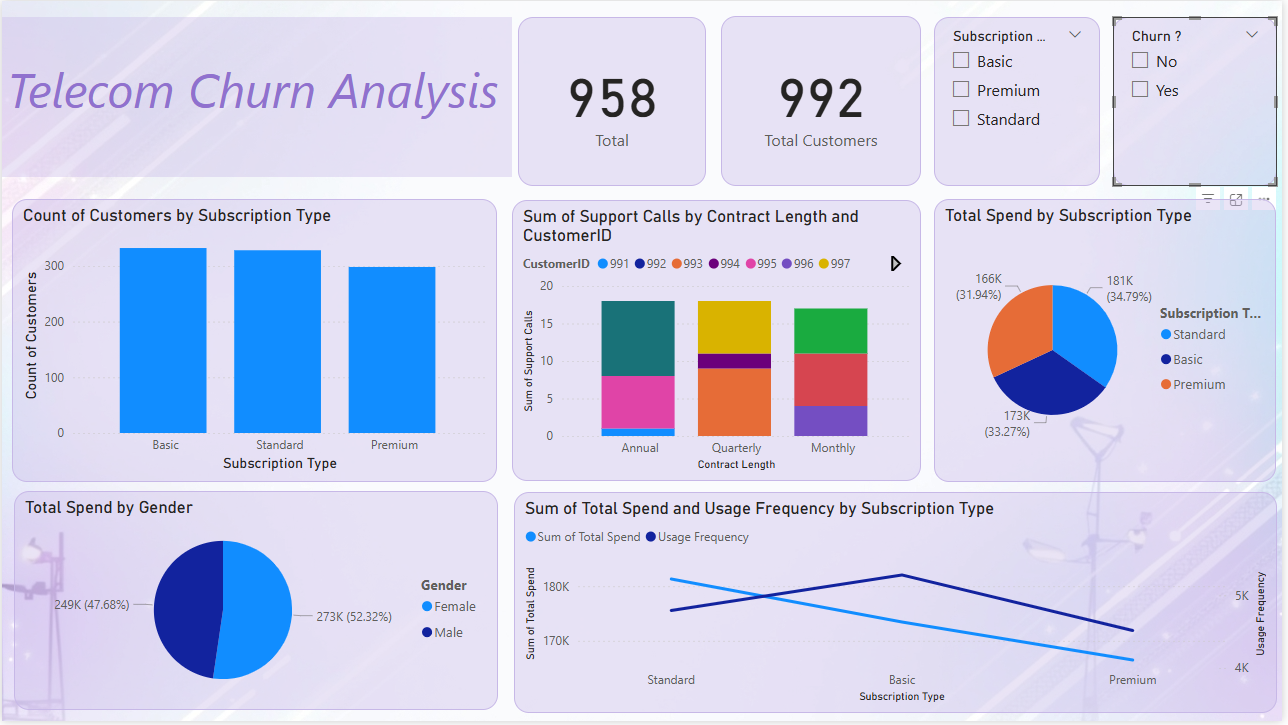

The page's visual inventory and layout, read from the dashboard file:
{"tool":"powerbi","page":{"name":"Page 1","canvas":[1280,720],"ordinal":0},"visuals":[{"type":"textbox","box":[0,15.8,510,160.5],"z":0},{"type":"card","fields":{"Values":["CountNonNull(Sheet1.CustomerID)"]},"box":[515.9,15.8,188.1,169.4],"z":1000},{"type":"slicer","fields":{"Values":["Sheet1.Subscription Type"]},"box":[932.4,15.8,165.4,169.4],"z":2000},{"type":"slicer","fields":{"Values":["Sheet1.Churn_Text"]},"box":[1110.6,15.8,164.4,169.4],"z":3000},{"type":"columnChart","fields":{"Category":["Sheet1.Subscription Type"],"Y":["CountNonNull(Sheet1.CustomerID)"]},"box":[9.6,198.5,485.2,282.8],"z":4000},{"type":"columnChart","fields":{"Category":["Sheet1.Contract Length"],"Y":["Sum(Sheet1.Support Calls)"],"Series":["Sheet1.CustomerID"]},"box":[512.4,199,408.8,281.1],"z":5000},{"type":"pieChart","fields":{"Category":["Sheet1.Subscription Type"],"Y":["Sum(Sheet1.Total Spend)"]},"box":[932,198.5,342.3,282.8],"z":6000},{"type":"pieChart","fields":{"Category":["Sheet1.Gender"],"Y":["Sum(Sheet1.Total Spend)"]},"box":[12.5,489.9,483.2,218.6],"z":7000},{"type":"lineChart","fields":{"Category":["Sheet1.Subscription Type"],"Y":["Sum(Sheet1.Total Spend)"],"Y2":["Sum(Sheet1.Usage Frequency)"]},"box":[512,491.3,763.1,220.6],"z":8000},{"type":"card","fields":{"Values":["CountNonNull(Sheet1.CustomerID)"]},"box":[719.1,15.3,199.4,169.7],"z":9000}]}

Visuals, with their boxes on the page's 1280x720 design canvas (x1, y1, x2, y2). These are canvas units, not pixel positions in the 1288x725 screenshot, which may show the page scaled, cropped or inside an application window:
textbox: box(0, 16, 510, 176)
card - CountNonNull(Sheet1.CustomerID): box(516, 16, 704, 185)
slicer - Sheet1.Subscription Type: box(932, 16, 1098, 185)
slicer - Sheet1.Churn_Text: box(1111, 16, 1275, 185)
columnChart - Sheet1.Subscription Type x CountNonNull(Sheet1.CustomerID): box(10, 198, 495, 481)
columnChart - Sheet1.Contract Length x Sum(Sheet1.Support Calls): box(512, 199, 921, 480)
pieChart - Sheet1.Subscription Type x Sum(Sheet1.Total Spend): box(932, 198, 1274, 481)
pieChart - Sheet1.Gender x Sum(Sheet1.Total Spend): box(12, 490, 496, 708)
lineChart - Sheet1.Subscription Type x Sum(Sheet1.Total Spend): box(512, 491, 1275, 712)
card - CountNonNull(Sheet1.CustomerID): box(719, 15, 918, 185)
